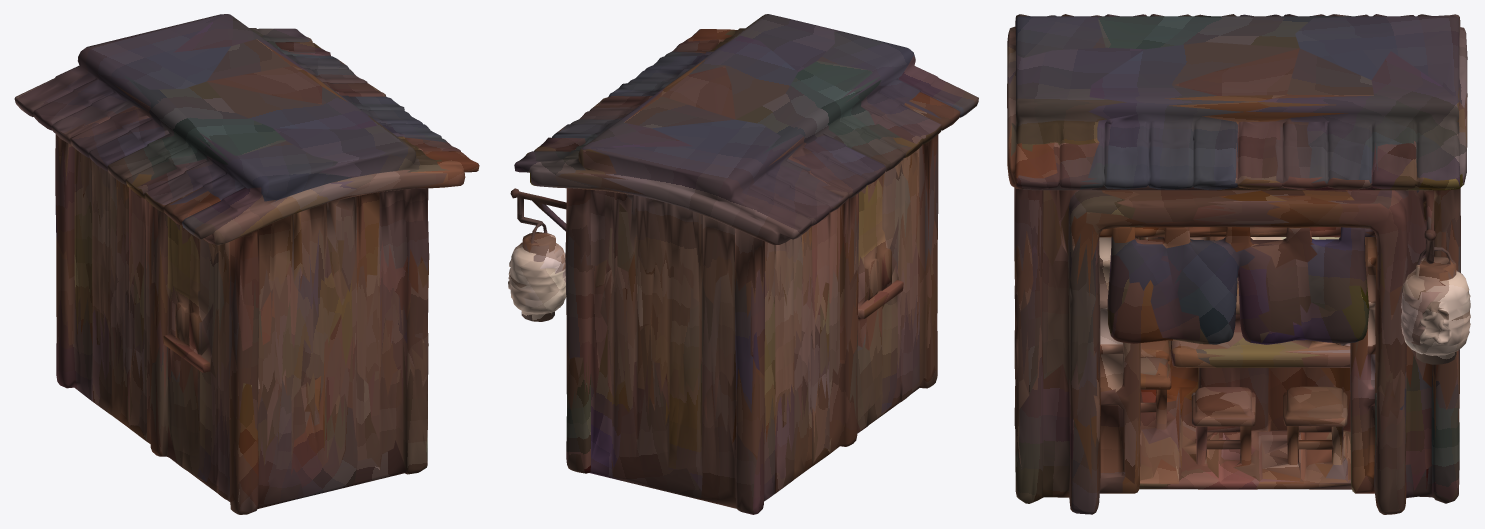
File: JP_사물_s2_entrance_door_open.glb
3 views of the same model, side by side, from view 1: azimuth 30°, elevation 25°; view 2: azimuth 150°, elevation 25°; view 3: azimuth 270°, elevation 25° (orthographic). The views are drawn at different scales.
Visible parts, largest first — view 1: tripo_node_3ff2480b-3369-4513-94e1-efb7f680655e; view 2: tripo_node_3ff2480b-3369-4513-94e1-efb7f680655e; view 3: tripo_node_3ff2480b-3369-4513-94e1-efb7f680655e.
Part boxes in pixels (x1=…): tripo_node_3ff2480b-3369-4513-94e1-efb7f680655e: x1=14, y1=14, x2=479, y2=514; tripo_node_3ff2480b-3369-4513-94e1-efb7f680655e: x1=508, y1=14, x2=978, y2=514; tripo_node_3ff2480b-3369-4513-94e1-efb7f680655e: x1=1007, y1=14, x2=1470, y2=514.
Bounding box in the file's own units: 0.8856 × 0.9457 × 1.
1 material, 1 textured.
